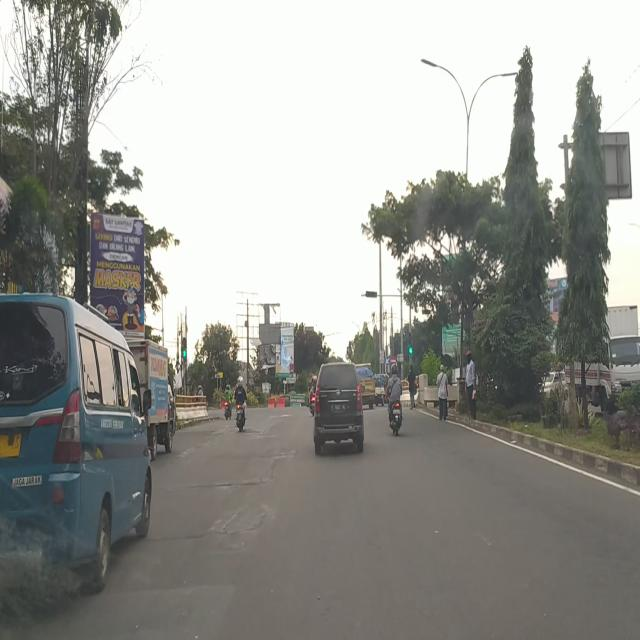Sewer Cover: (152, 530, 252, 542), (185, 482, 260, 487)
